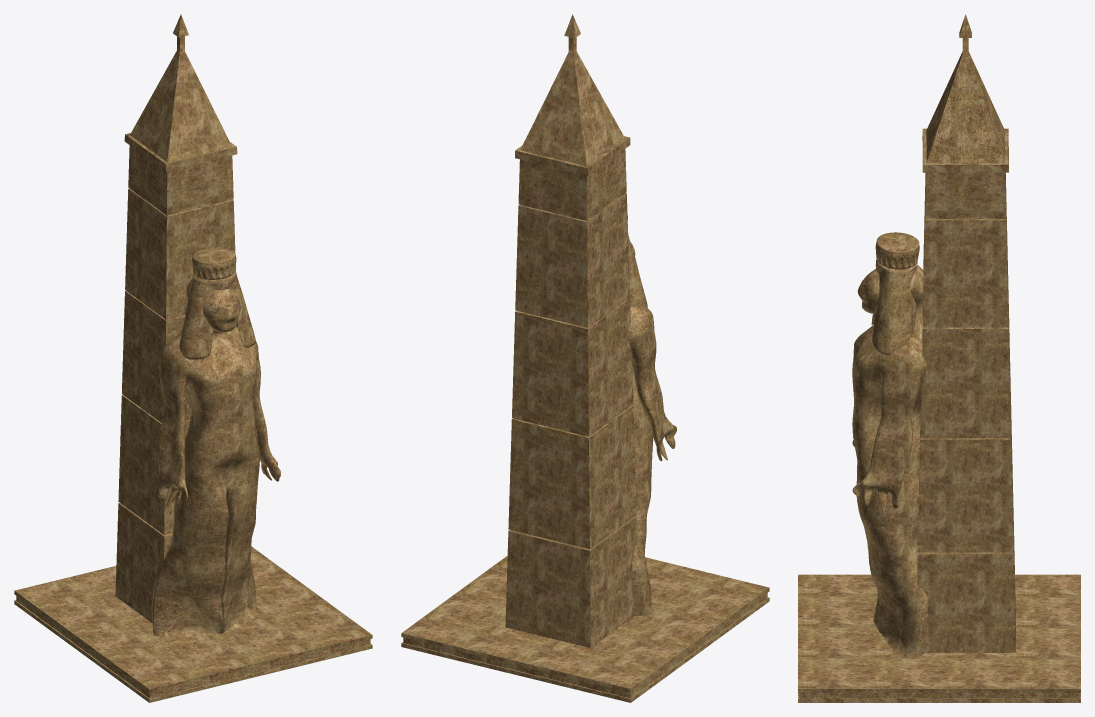
File: egypt_column.glb
The picture shows the model from 3 angles, left to right: view 1: azimuth 30°, elevation 25°; view 2: azimuth 150°, elevation 25°; view 3: azimuth 270°, elevation 25°; orthographic projection. The views are drawn at different scales.
Parts seen in each view (by area): view 1: obelisk, statue, floor; view 2: obelisk, floor, statue; view 3: obelisk, floor, statue.
Boxes of the visible parts, box(x1,y1,x2,y2) form: obelisk: box(115, 14, 237, 622); statue: box(151, 247, 280, 637); floor: box(14, 546, 372, 702); obelisk: box(505, 14, 637, 647); floor: box(401, 555, 769, 702); statue: box(627, 216, 676, 615); obelisk: box(917, 14, 1015, 652); floor: box(798, 574, 1080, 702); statue: box(852, 232, 928, 657).
Bounding box in the file's own units: 0.0238 × 0.0616 × 0.0249.
Materials: 1 (1 with a texture image).
